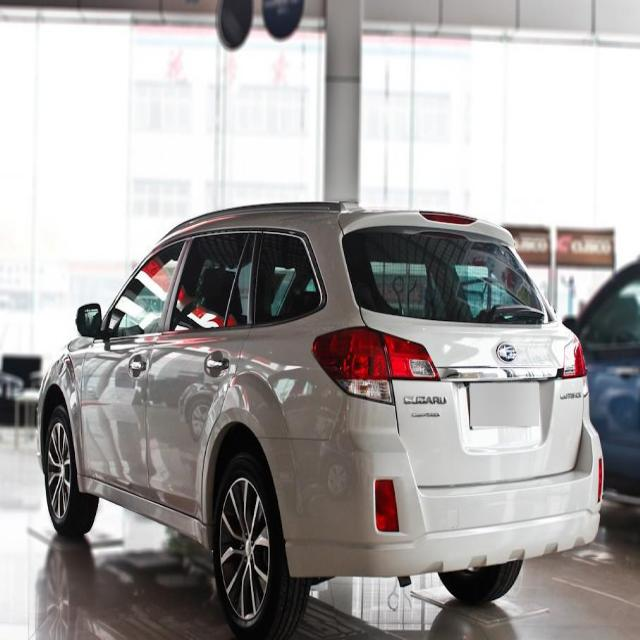back_glass: (341, 220, 551, 328)
back_left_side_light: (308, 324, 444, 407)
back_right_side_light: (557, 336, 588, 382)
door: (150, 220, 266, 507)
front_left_side_door: (79, 228, 191, 504)
front_left_side_mirror: (75, 298, 105, 340)
rear_bumper: (256, 390, 604, 580)
wheel: (216, 454, 302, 640), (44, 405, 94, 536)
